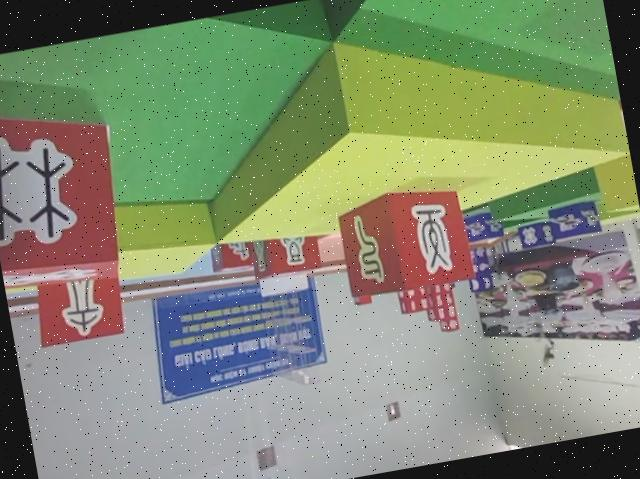R2 Fake: (331, 174, 479, 302), (26, 257, 131, 350)
R2 Real: (0, 88, 132, 298), (243, 215, 324, 283)
